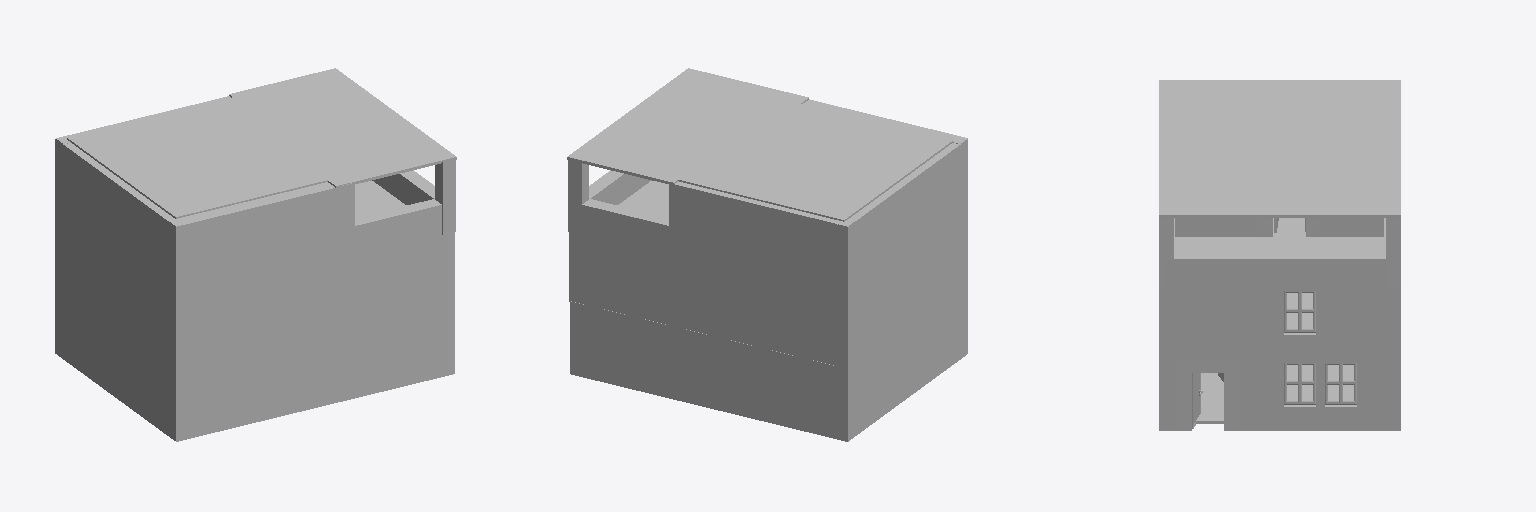
File: Open SlumHouse.obj
3 renders of one model, left to right at view 1: azimuth 30°, elevation 25°; view 2: azimuth 150°, elevation 25°; view 3: azimuth 270°, elevation 25°, orthographic.
Visible parts, largest first — view 1: Muur_Lang017, Muur_Lang016, Muur_Lang022, Muur_Lang025, Muur_Lang021, Muur_Lang029, Muur_Lang026, Muur_Kort036, Muur_Kort035, Muur_Kort038, Muur_Kort024, Muur_Kort025 (+28 smaller); view 2: Muur_Lang020, Muur_Lang019, Muur_Lang023, Muur_Lang024, Muur_Lang028, Muur_Lang027, Muur_Lang030, Muur_Kort036, Muur_Kort032, Muur_Kort025, Muur_Kort038, Muur_Kort035 (+28 smaller); view 3: Muur_Kort042, Muur_Kort028, Muur_Kort029, Muur_met_raam_Links003, Muur_met_raam_Rechts004, Muur_met_raam_Rechts005, Muur_met_deur004, Plafond124, Plafond125, Plafond141, Plafond138, Plafond128 (+28 smaller).
Boxes of the visible parts, x1=… form: Muur_Lang017: x1=174, y1=335, x2=315, y2=441; Muur_Lang016: x1=316, y1=301, x2=454, y2=407; Muur_Lang022: x1=174, y1=263, x2=315, y2=369; Muur_Lang025: x1=206, y1=182, x2=352, y2=290; Muur_Lang021: x1=316, y1=232, x2=454, y2=334; Muur_Lang029: x1=316, y1=199, x2=454, y2=308; Muur_Lang026: x1=169, y1=187, x2=315, y2=298; Muur_Kort036: x1=55, y1=139, x2=94, y2=234; Muur_Kort035: x1=142, y1=200, x2=174, y2=295; Muur_Kort038: x1=111, y1=177, x2=148, y2=274; Muur_Kort024: x1=142, y1=344, x2=173, y2=439; Muur_Kort025: x1=55, y1=281, x2=86, y2=375; Muur_Lang020: x1=706, y1=335, x2=845, y2=441; Muur_Lang019: x1=570, y1=301, x2=708, y2=406; Muur_Lang023: x1=569, y1=232, x2=708, y2=334; Muur_Lang024: x1=708, y1=263, x2=833, y2=364; Muur_Lang028: x1=708, y1=190, x2=854, y2=295; Muur_Lang027: x1=669, y1=181, x2=811, y2=289; Muur_Lang030: x1=569, y1=199, x2=708, y2=307; Muur_Kort036: x1=834, y1=202, x2=879, y2=299; Muur_Kort032: x1=834, y1=274, x2=879, y2=368; Muur_Kort025: x1=846, y1=346, x2=879, y2=441; Muur_Kort038: x1=897, y1=162, x2=934, y2=258; Muur_Kort035: x1=927, y1=141, x2=965, y2=235; Muur_Kort042: x1=1166, y1=253, x2=1385, y2=288; Muur_Kort028: x1=1172, y1=289, x2=1235, y2=358; Muur_Kort029: x1=1321, y1=289, x2=1383, y2=357; Muur_met_raam_Links003: x1=1320, y1=358, x2=1384, y2=430; Muur_met_raam_Rechts004: x1=1256, y1=358, x2=1319, y2=430; Muur_met_raam_Rechts005: x1=1257, y1=289, x2=1320, y2=358; Muur_met_deur004: x1=1175, y1=359, x2=1239, y2=430; Plafond124: x1=1175, y1=130, x2=1239, y2=157; Plafond125: x1=1230, y1=130, x2=1294, y2=157; Plafond141: x1=1337, y1=188, x2=1400, y2=217; Plafond138: x1=1159, y1=188, x2=1222, y2=217; Plafond128: x1=1175, y1=105, x2=1239, y2=129.
Bounding box in the file's own units: 395 × 295 × 297.